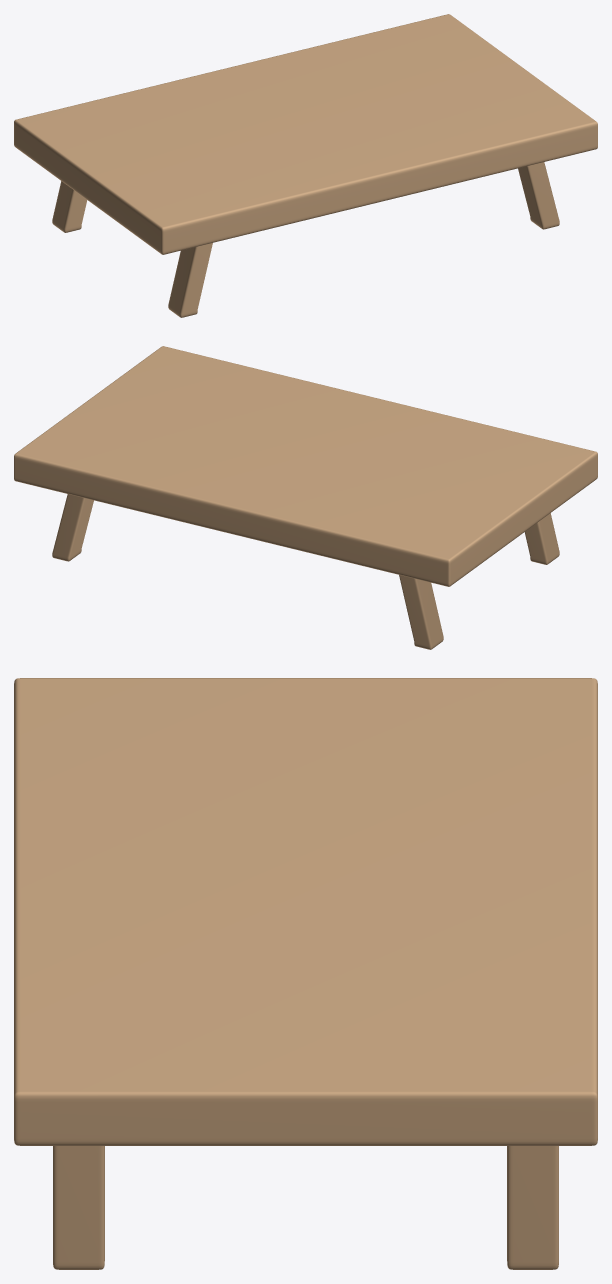
File: CuttingTable.fbx
3 views of the same model, one above another, from view 1: azimuth 30°, elevation 25°; view 2: azimuth 150°, elevation 25°; view 3: azimuth 270°, elevation 25° (orthographic). The views are drawn at different scales.
Parts seen in each view (by area): view 1: CuttingTable; view 2: CuttingTable; view 3: CuttingTable.
Part boxes in pixels (bbox=[...]): CuttingTable: bbox=[14, 14, 597, 317]; CuttingTable: bbox=[14, 346, 597, 649]; CuttingTable: bbox=[14, 678, 597, 1269].
Size of the model in its own units: 79.11 by 18.12 by 46.86.
